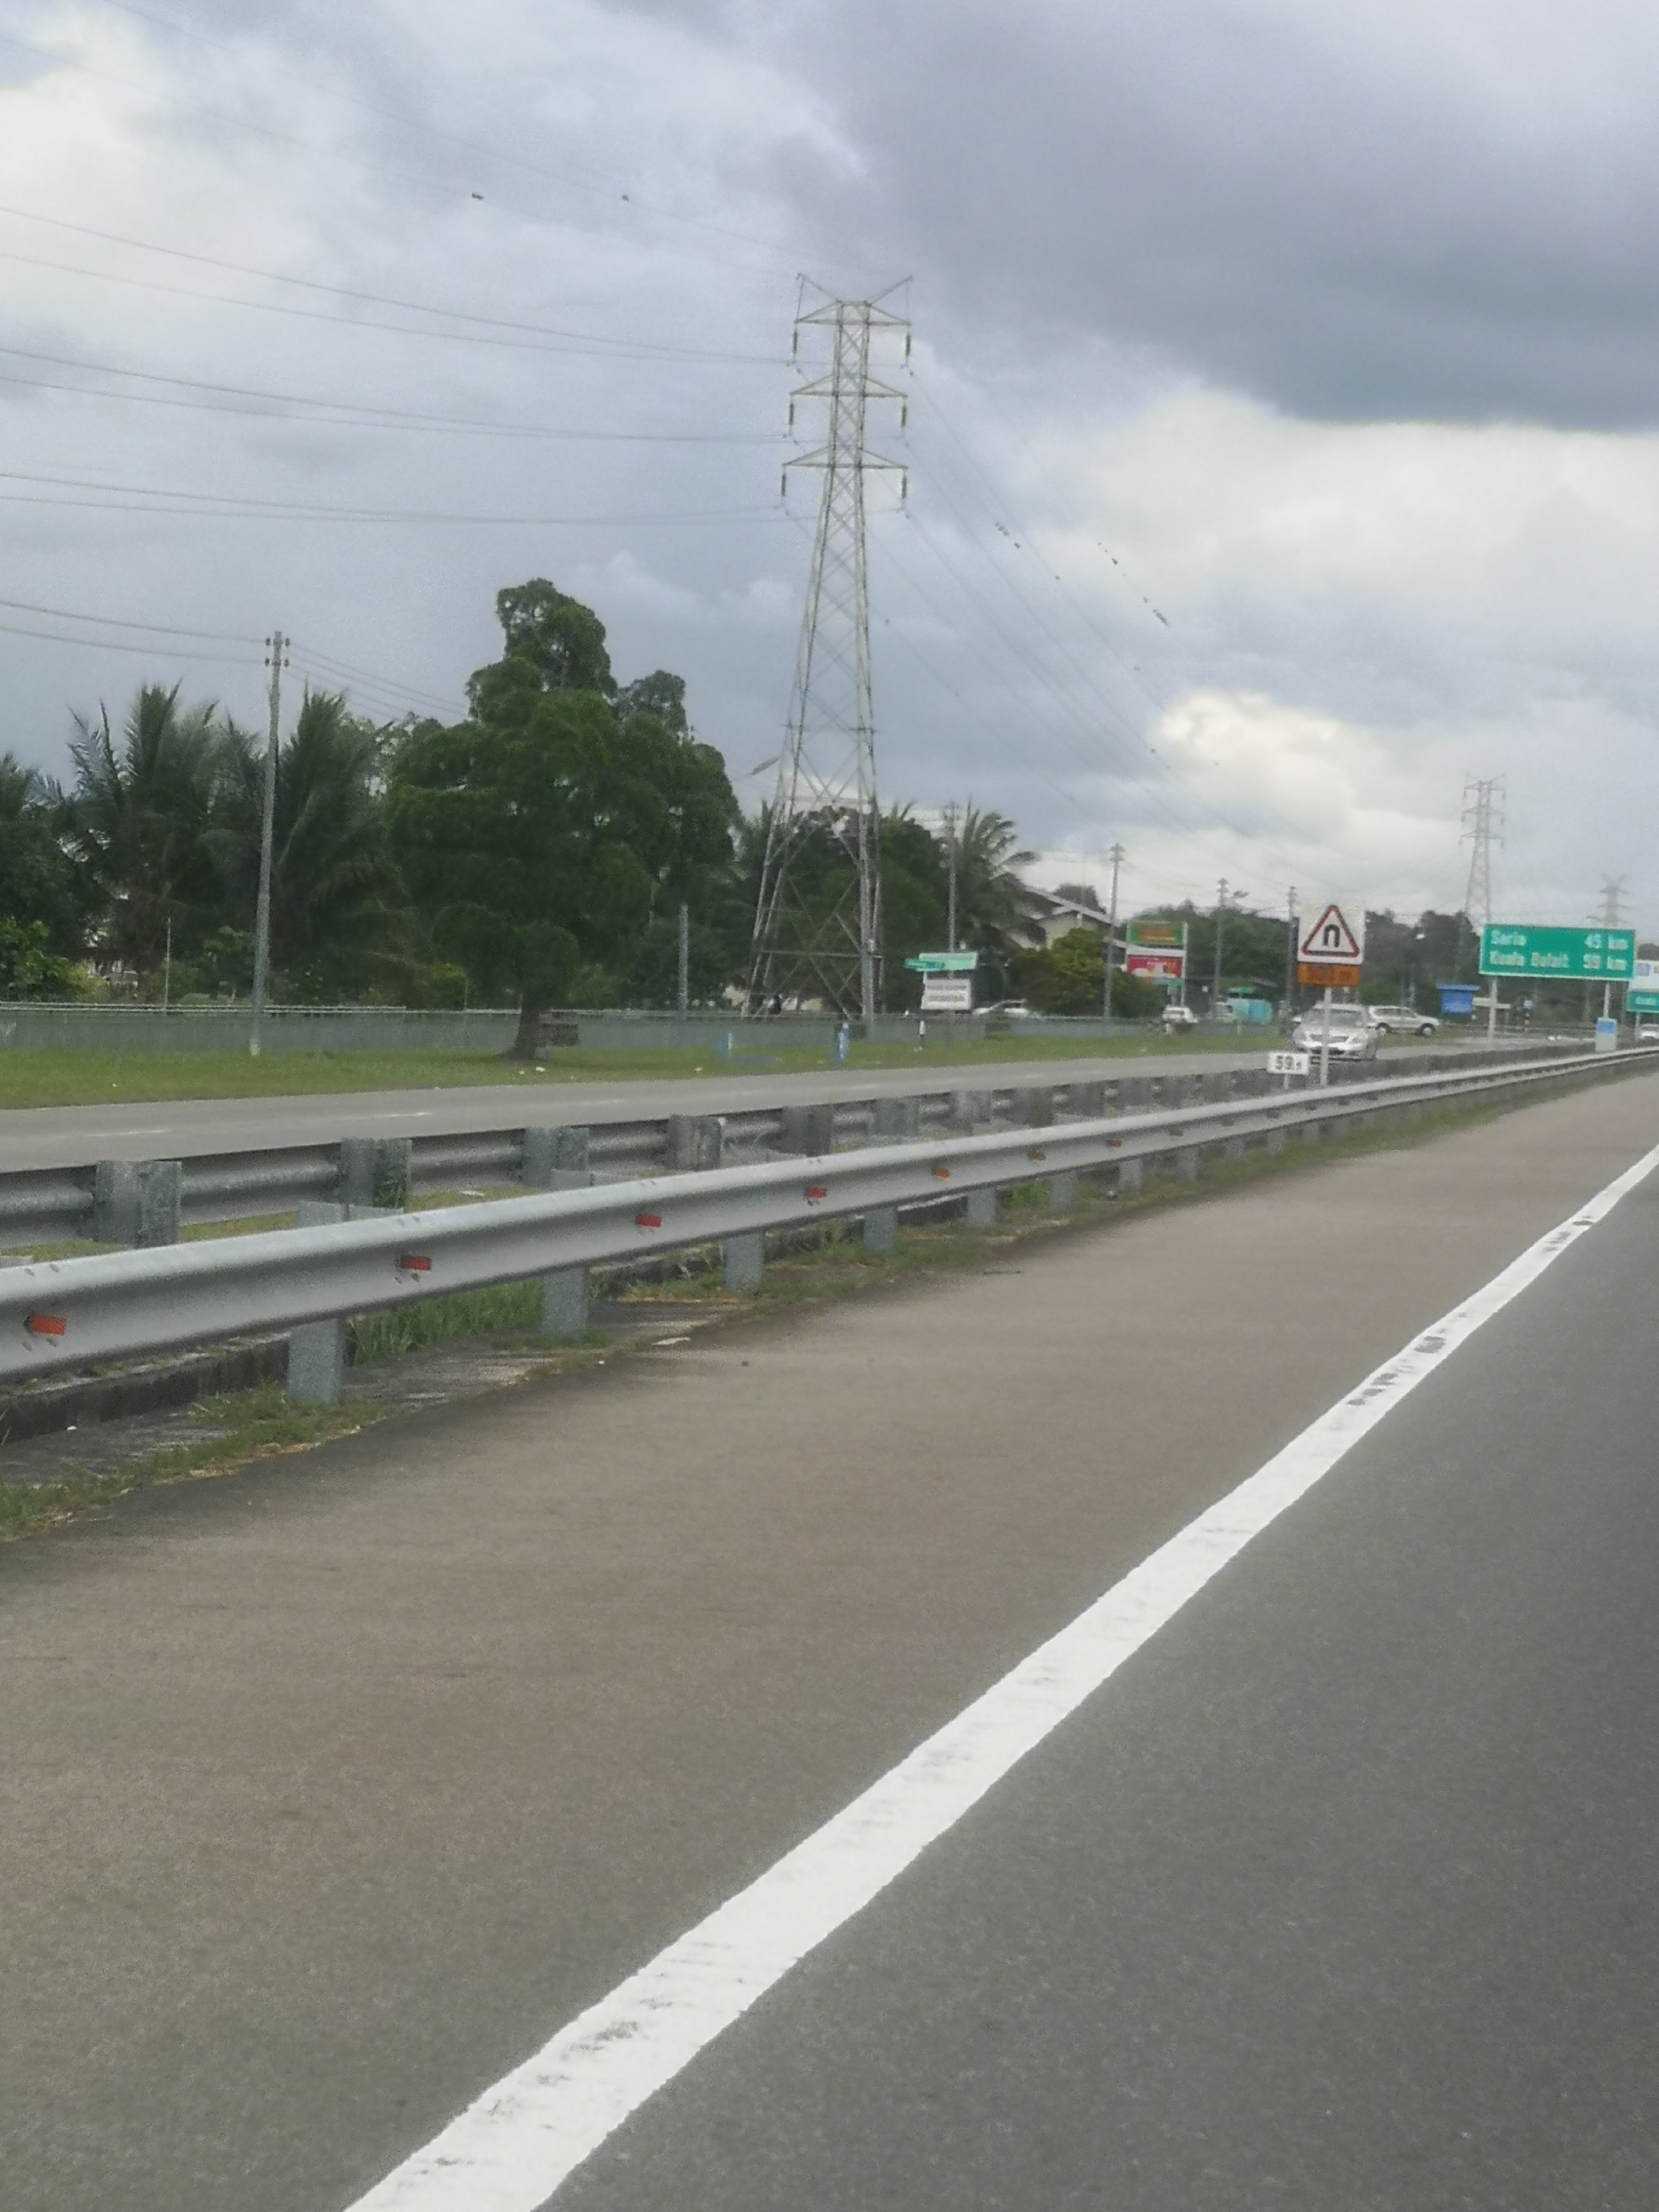U-turn: (1295, 894, 1368, 965)
